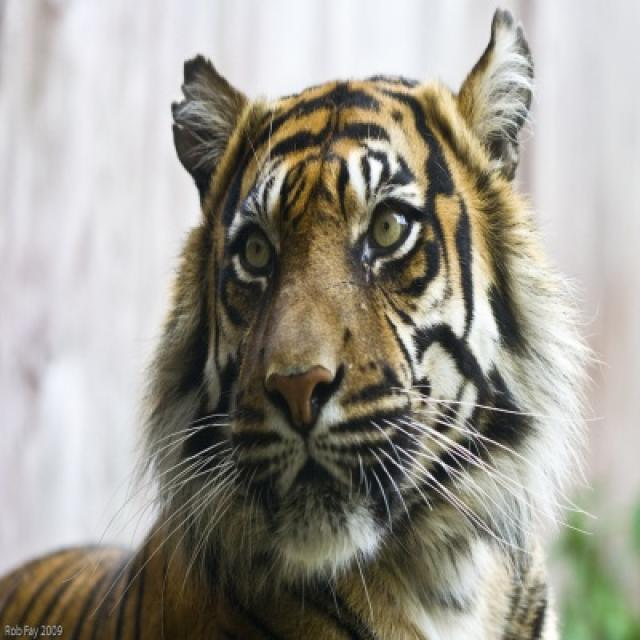Tiger: (0, 10, 586, 638)
